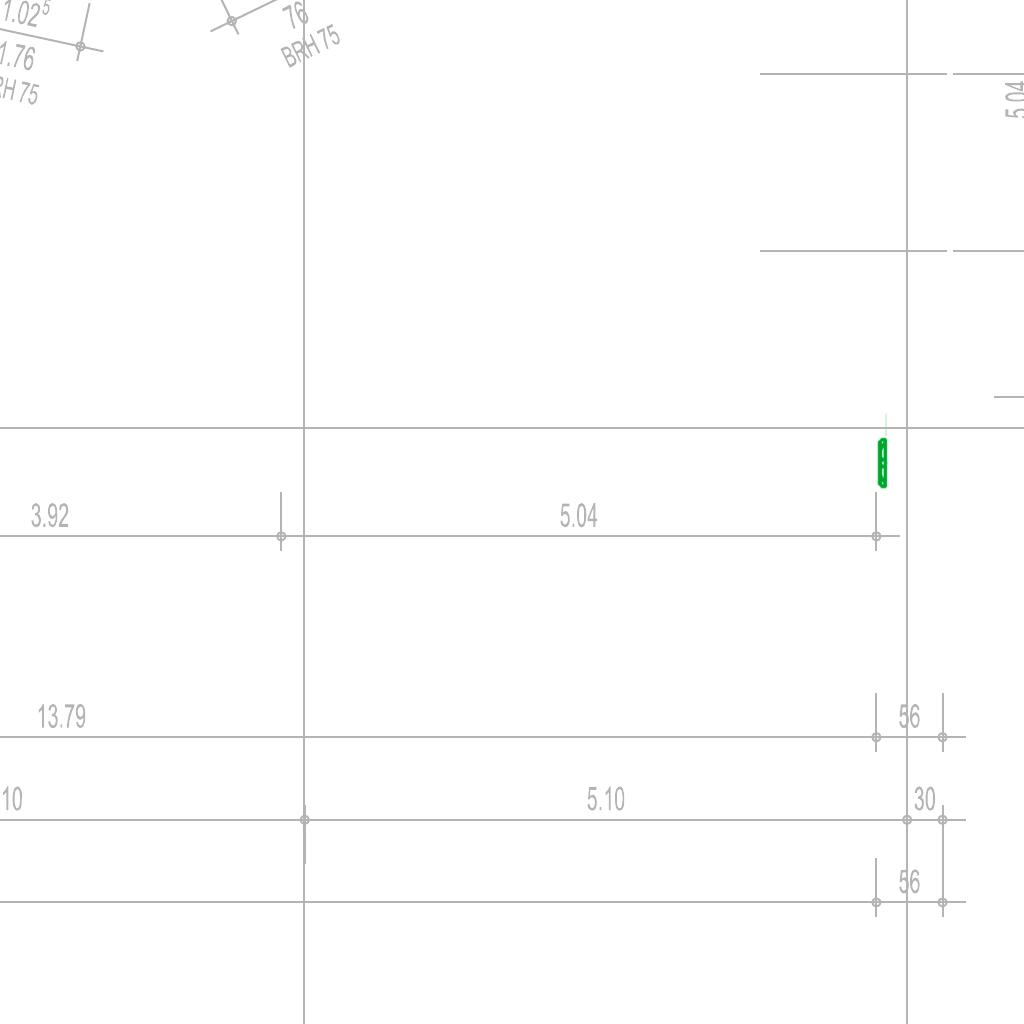Sicherheitsleuchte_Wandeinbau: (876, 411, 888, 490)
